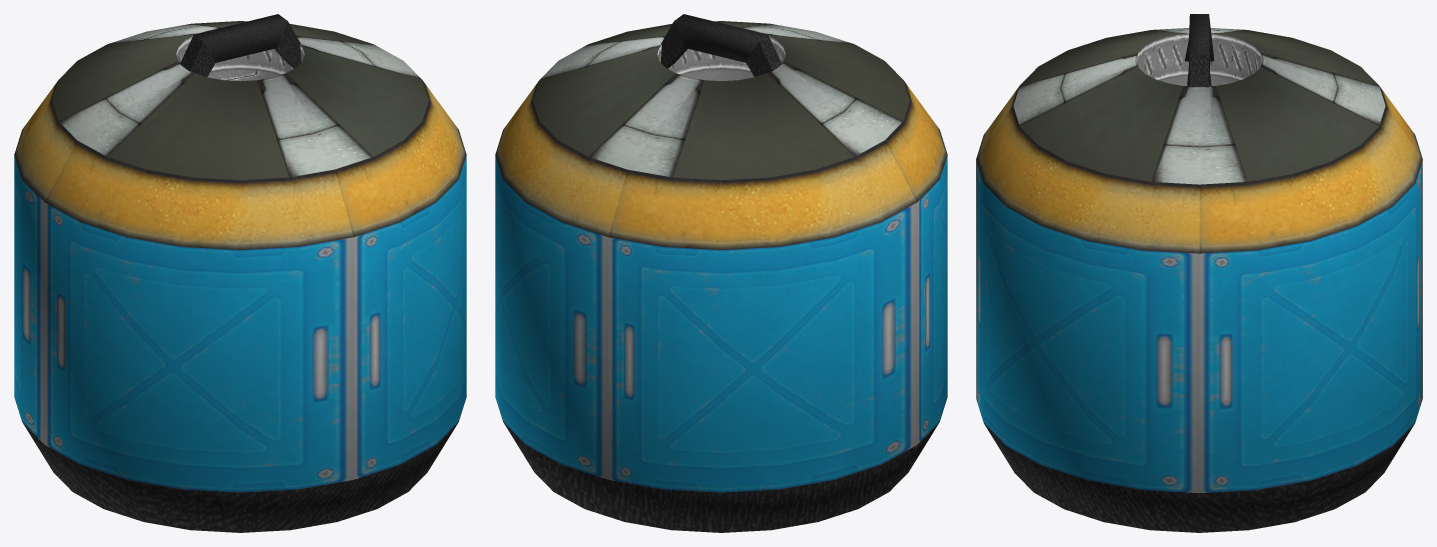
Rendered from Canisters_03.fbx.
3 renders of one model, left to right at view 1: azimuth 30°, elevation 25°; view 2: azimuth 150°, elevation 25°; view 3: azimuth 270°, elevation 25°, orthographic.
Parts seen in each view (by area): view 1: Canisters_03; view 2: Canisters_03; view 3: Canisters_03.
Part boxes in pixels (x1,y1,x2,y2): Canisters_03: (14,14,466,532); Canisters_03: (495,14,947,532); Canisters_03: (976,14,1422,532).
Size of the model in its own units: 39.78 by 41.07 by 39.78.
